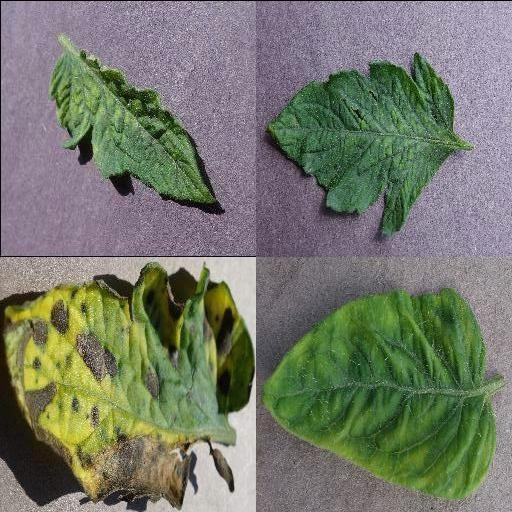Early Blight: (6, 262, 256, 507)
Mosaic Virus: (265, 51, 455, 235), (47, 49, 219, 205)
Yellow Leaf Curl Virus: (261, 286, 499, 501)
